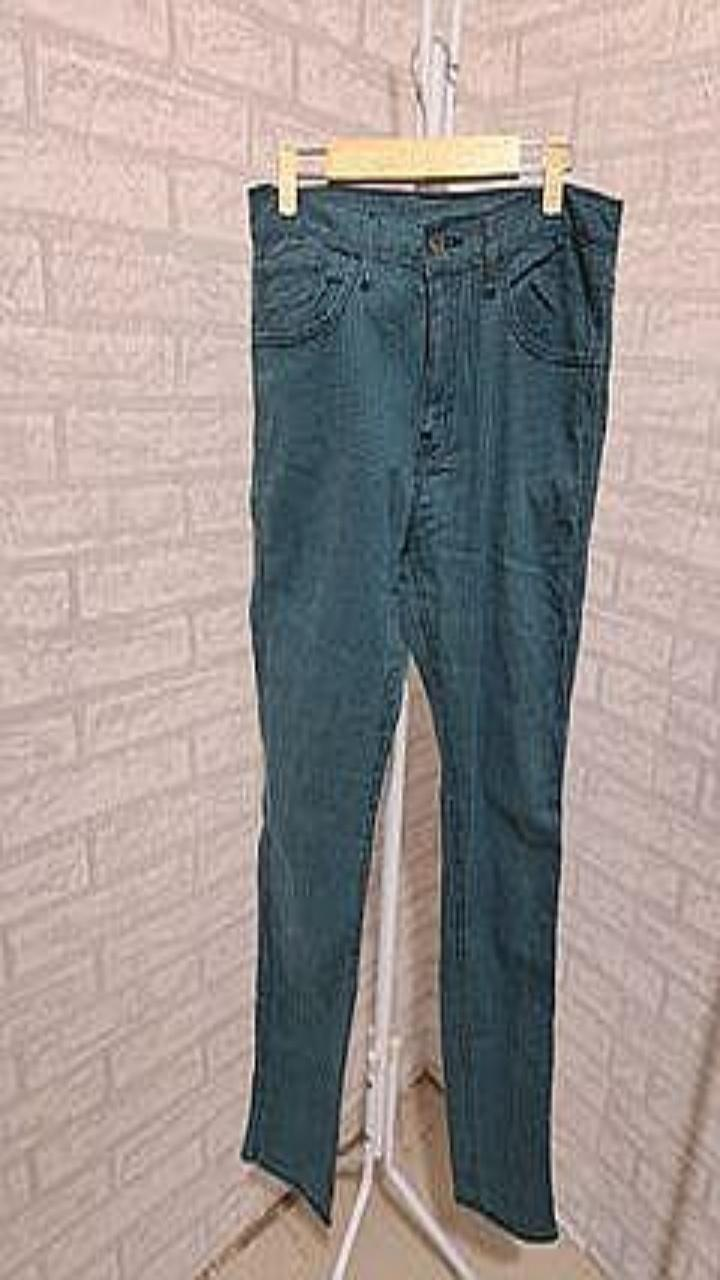Jeans: (241, 183, 622, 1240)
